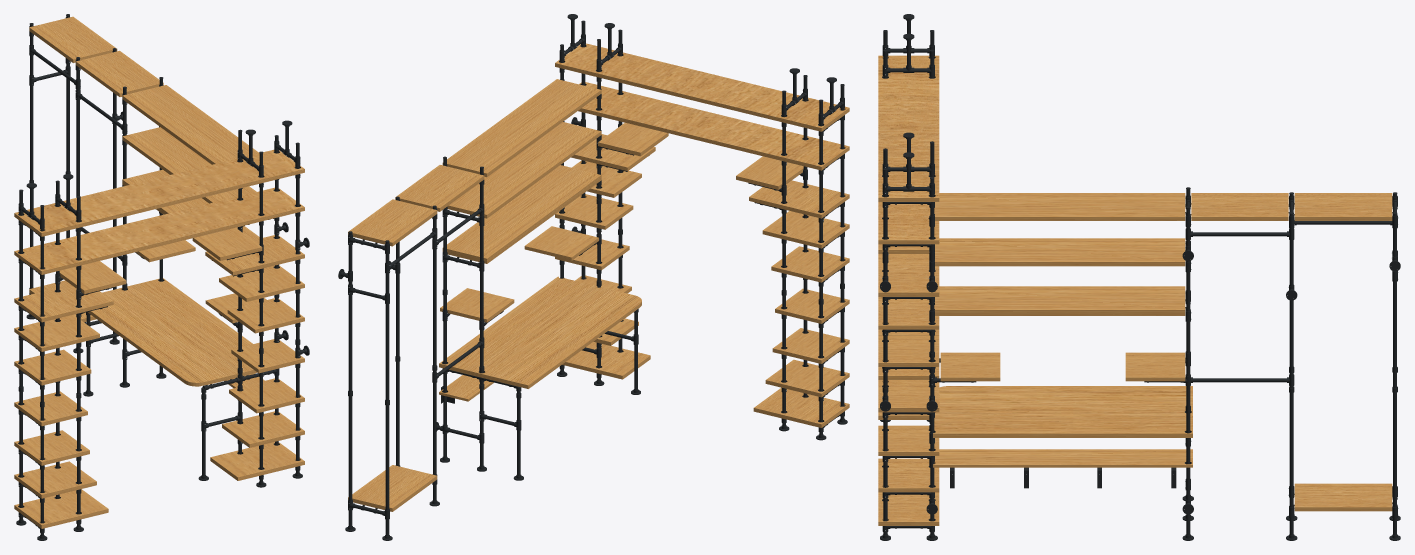
The model's file is assembly-portal.glb.
The picture shows the model from 3 angles, left to right: view 1: azimuth 30°, elevation 25°; view 2: azimuth 150°, elevation 25°; view 3: azimuth 270°, elevation 25°; orthographic projection. The views are drawn at different scales.
Parts seen in each view (by area): view 1: Desk.top / Oak cut board, Portal.lintel0 / Oak cut board, Portal.lintel1 / Oak cut board, Desk.shelf2 / Oak cut board, Desk.shelf1 / Oak cut board, Rack.top1 / Oak cut board, Rack.top0 / Oak cut board, Portal.shelfR0 / Oak cut board, Portal.shelfL0 / Oak cut board, Portal.shelfL6 / Oak cut board, Portal.shelfR5 / Oak cut board, Portal.shelfL5 / Oak cut board (+26 smaller); view 2: Desk.top / Oak cut board, Portal.lintel1 / Oak cut board, Portal.lintel0 / Oak cut board, Desk.shelf2 / Oak cut board, Desk.shelf0 / Oak cut board, Desk.shelf1 / Oak cut board, Rack.top1 / Oak cut board, Rack.top0 / Oak cut board, Rack.coat_shoes / Oak cut board, Portal.shelfL0 / Oak cut board, Portal.shelfL6 / Oak cut board, Portal.shelfL5 / Oak cut board (+19 smaller); view 3: Desk.top / Oak cut board, Portal.lintel1 / Oak cut board, Desk.shelf0 / Oak cut board, Desk.shelf1 / Oak cut board, Desk.shelf2 / Oak cut board, Desk.service_shelf / Oak cut board, Rack.coat_shoes / Oak cut board, Rack.top1 / Oak cut board, Rack.top0 / Oak cut board, Portal.lintel0 / Oak cut board, Portal.shelfR6 / Oak cut board, Portal.shelfR1 / Oak cut board (+10 smaller).
Boxes of the visible parts, x1=… form: Desk.top / Oak cut board: x1=88, y1=278, x2=257, y2=386; Portal.lintel0 / Oak cut board: x1=14, y1=187, x2=304, y2=274; Portal.lintel1 / Oak cut board: x1=14, y1=149, x2=304, y2=236; Desk.shelf2 / Oak cut board: x1=122, y1=85, x2=258, y2=164; Desk.shelf1 / Oak cut board: x1=122, y1=127, x2=256, y2=203; Rack.top1 / Oak cut board: x1=29, y1=16, x2=117, y2=62; Rack.top0 / Oak cut board: x1=75, y1=50, x2=163, y2=96; Portal.shelfR0 / Oak cut board: x1=210, y1=442, x2=304, y2=480; Portal.shelfL0 / Oak cut board: x1=14, y1=489, x2=108, y2=528; Portal.shelfL6 / Oak cut board: x1=14, y1=284, x2=113, y2=322; Portal.shelfR5 / Oak cut board: x1=219, y1=265, x2=304, y2=301; Portal.shelfL5 / Oak cut board: x1=14, y1=314, x2=99, y2=351; Desk.top / Oak cut board: x1=439, y1=276, x2=641, y2=388; Portal.lintel1 / Oak cut board: x1=555, y1=43, x2=849, y2=131; Portal.lintel0 / Oak cut board: x1=578, y1=82, x2=849, y2=170; Desk.shelf2 / Oak cut board: x1=442, y1=79, x2=601, y2=177; Desk.shelf0 / Oak cut board: x1=442, y1=165, x2=601, y2=263; Desk.shelf1 / Oak cut board: x1=447, y1=122, x2=601, y2=218; Rack.top1 / Oak cut board: x1=348, y1=199, x2=437, y2=246; Rack.top0 / Oak cut board: x1=395, y1=165, x2=484, y2=211; Rack.coat_shoes / Oak cut board: x1=348, y1=465, x2=437, y2=511; Portal.shelfL0 / Oak cut board: x1=753, y1=387, x2=849, y2=427; Portal.shelfL6 / Oak cut board: x1=749, y1=180, x2=849, y2=218; Portal.shelfL5 / Oak cut board: x1=762, y1=211, x2=849, y2=248; Desk.top / Oak cut board: x1=933, y1=386, x2=1192, y2=437; Portal.lintel1 / Oak cut board: x1=878, y1=55, x2=939, y2=201; Desk.shelf0 / Oak cut board: x1=935, y1=286, x2=1185, y2=315; Desk.shelf1 / Oak cut board: x1=935, y1=238, x2=1185, y2=266; Desk.shelf2 / Oak cut board: x1=935, y1=193, x2=1185, y2=220; Desk.service_shelf / Oak cut board: x1=933, y1=449, x2=1192, y2=467; Rack.coat_shoes / Oak cut board: x1=1294, y1=483, x2=1392, y2=511; Rack.top1 / Oak cut board: x1=1294, y1=193, x2=1392, y2=220; Rack.top0 / Oak cut board: x1=1191, y1=193, x2=1288, y2=220; Portal.lintel0 / Oak cut board: x1=878, y1=202, x2=939, y2=244; Portal.shelfR6 / Oak cut board: x1=878, y1=254, x2=939, y2=296; Portal.shelfR1 / Oak cut board: x1=878, y1=458, x2=939, y2=492.
Size of the model in its own units: 2.14 by 2.63 by 3.24.
3 materials, 1 textured.
